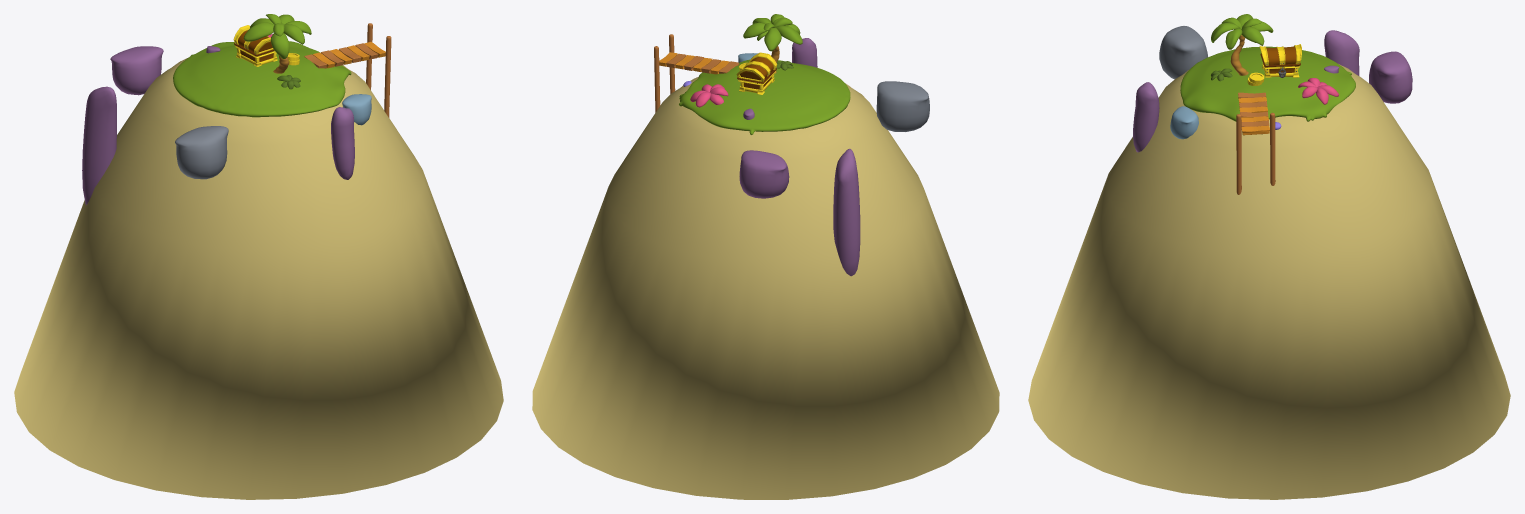
File: Isola piccola  .fbx
The picture shows the model from 3 angles, left to right: view 1: azimuth 30°, elevation 25°; view 2: azimuth 150°, elevation 25°; view 3: azimuth 270°, elevation 25°; orthographic projection. The views are drawn at different scales.
Visible parts, largest first — view 1: isola piccola; view 2: isola piccola; view 3: isola piccola.
Part boxes in pixels (left/top/right/bottom): isola piccola: left=14, top=14, right=503, bottom=499; isola piccola: left=532, top=14, right=999, bottom=499; isola piccola: left=1028, top=14, right=1510, bottom=499.
Bounding box in the file's own units: 5462 × 4760 × 5462.
